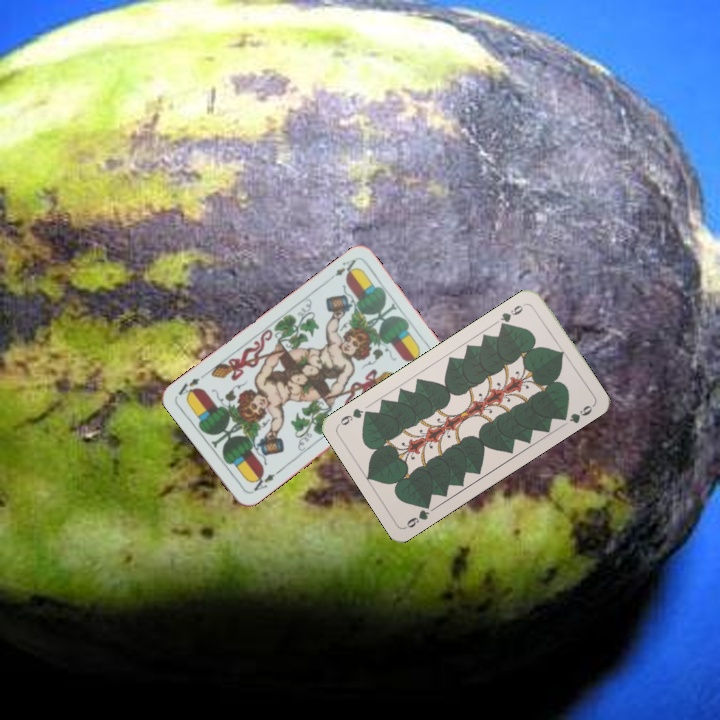EA: (247, 466, 282, 496), (330, 255, 360, 280)
G9: (401, 498, 433, 531), (496, 299, 530, 330)
